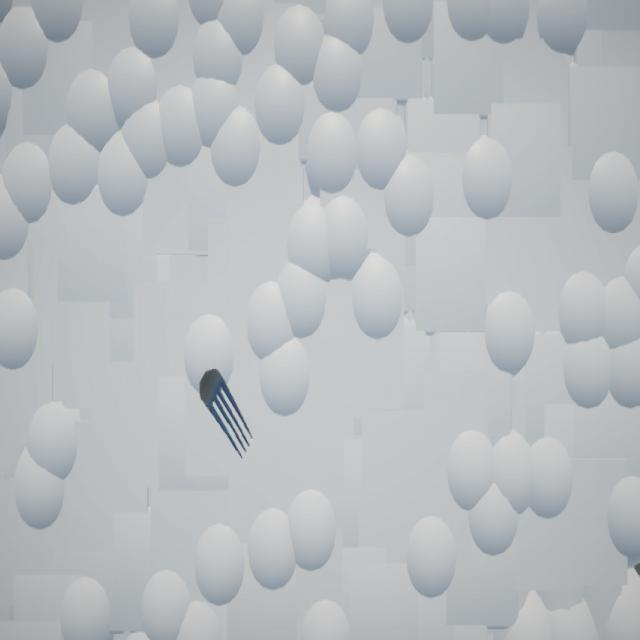top_folk: (200, 370, 254, 461)
